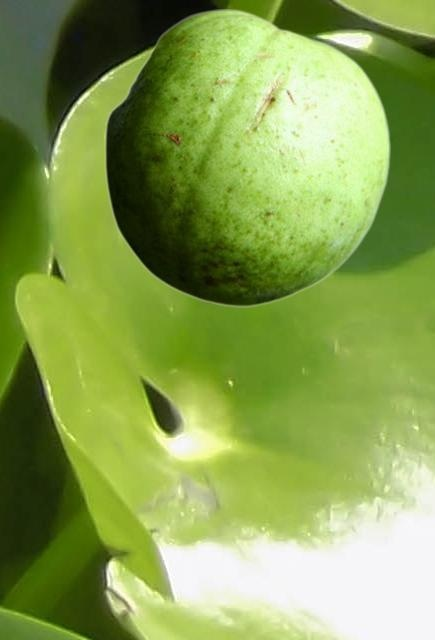guava: (104, 9, 389, 306)
